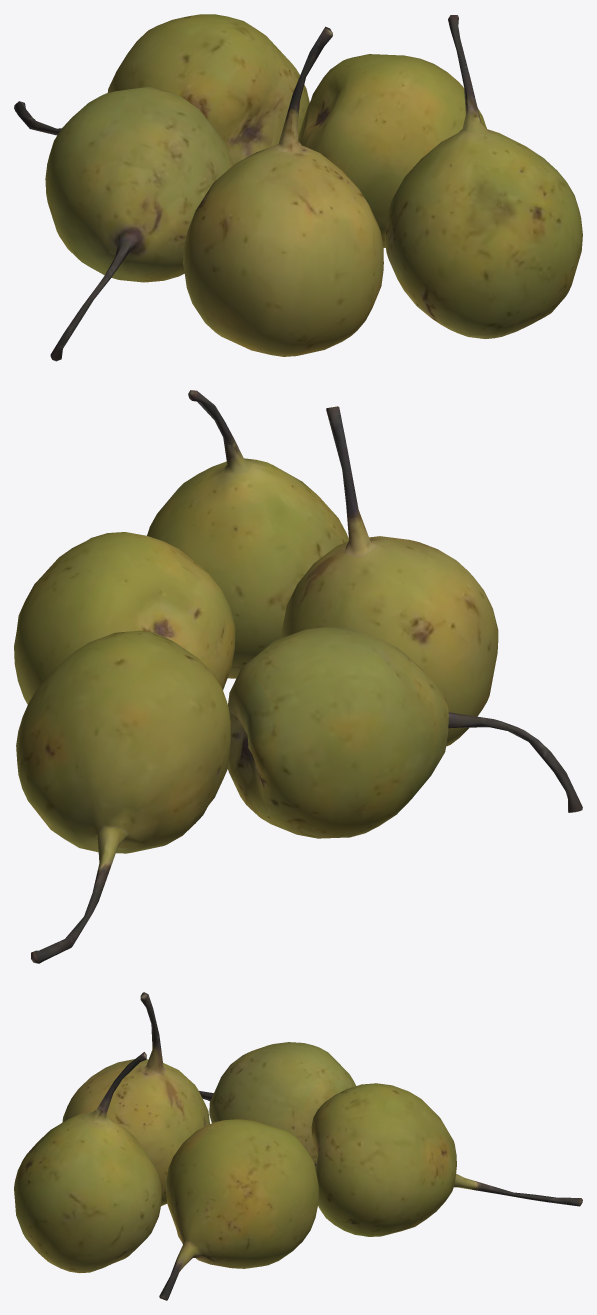
The model's file is food_pears_asian_01.glb.
3 renders of one model, top to bottom at view 1: azimuth 30°, elevation 25°; view 2: azimuth 150°, elevation 25°; view 3: azimuth 270°, elevation 25°, orthographic. The views are drawn at different scales.
Parts seen in each view (by area): view 1: food_pears_asian_01_b; view 2: food_pears_asian_01_b; view 3: food_pears_asian_01_b.
Boxes of the visible parts, x1,y1,x2,y2 form: food_pears_asian_01_b: (14,14,582,361); food_pears_asian_01_b: (14,390,582,963); food_pears_asian_01_b: (14,992,582,1300).
Size of the model in its own units: 0.1261 by 0.071 by 0.1668.
1 material, 1 textured.
